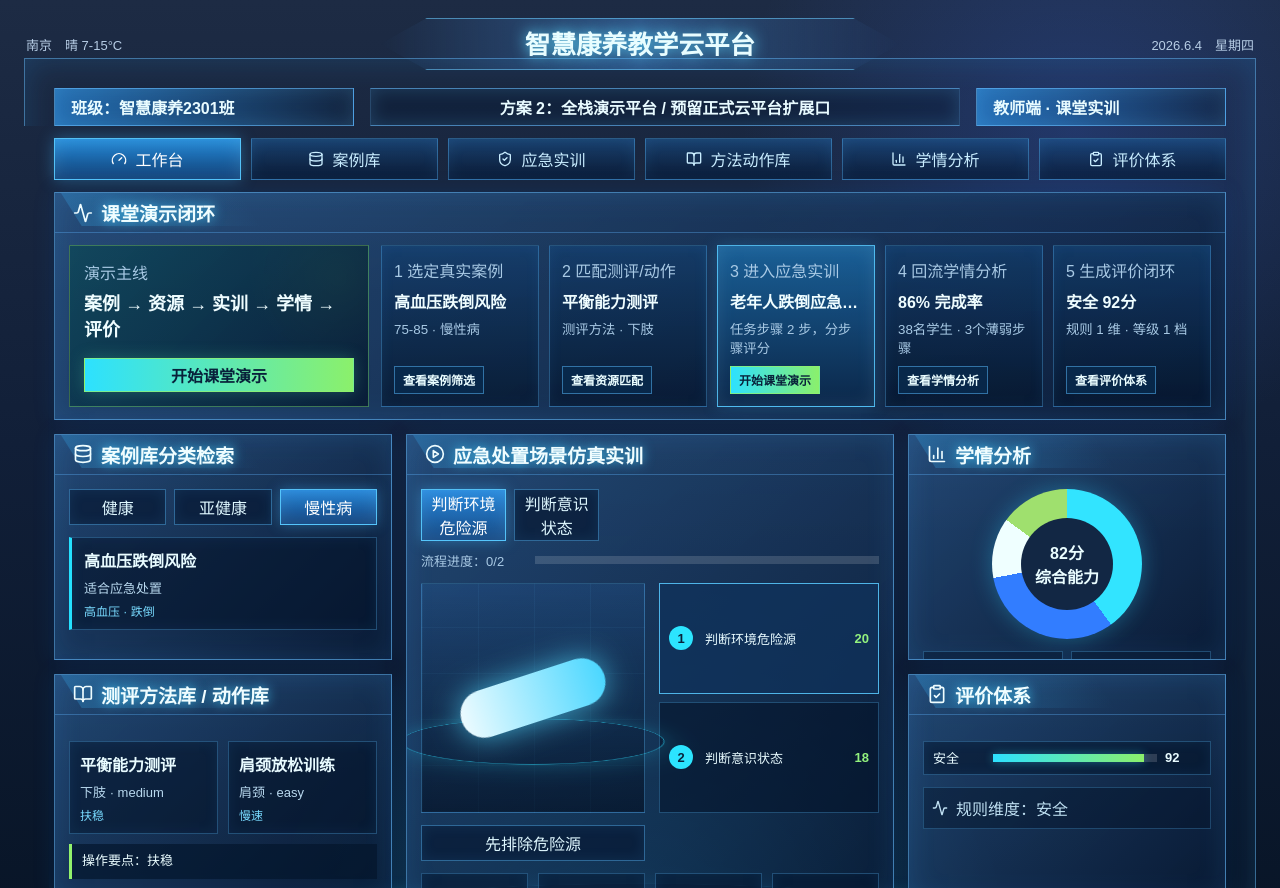
App › completes multiple fall-response steps and displays a total report
Click the button named "应急实训": {"x": 542, "y": 159} [448,138,635,180]
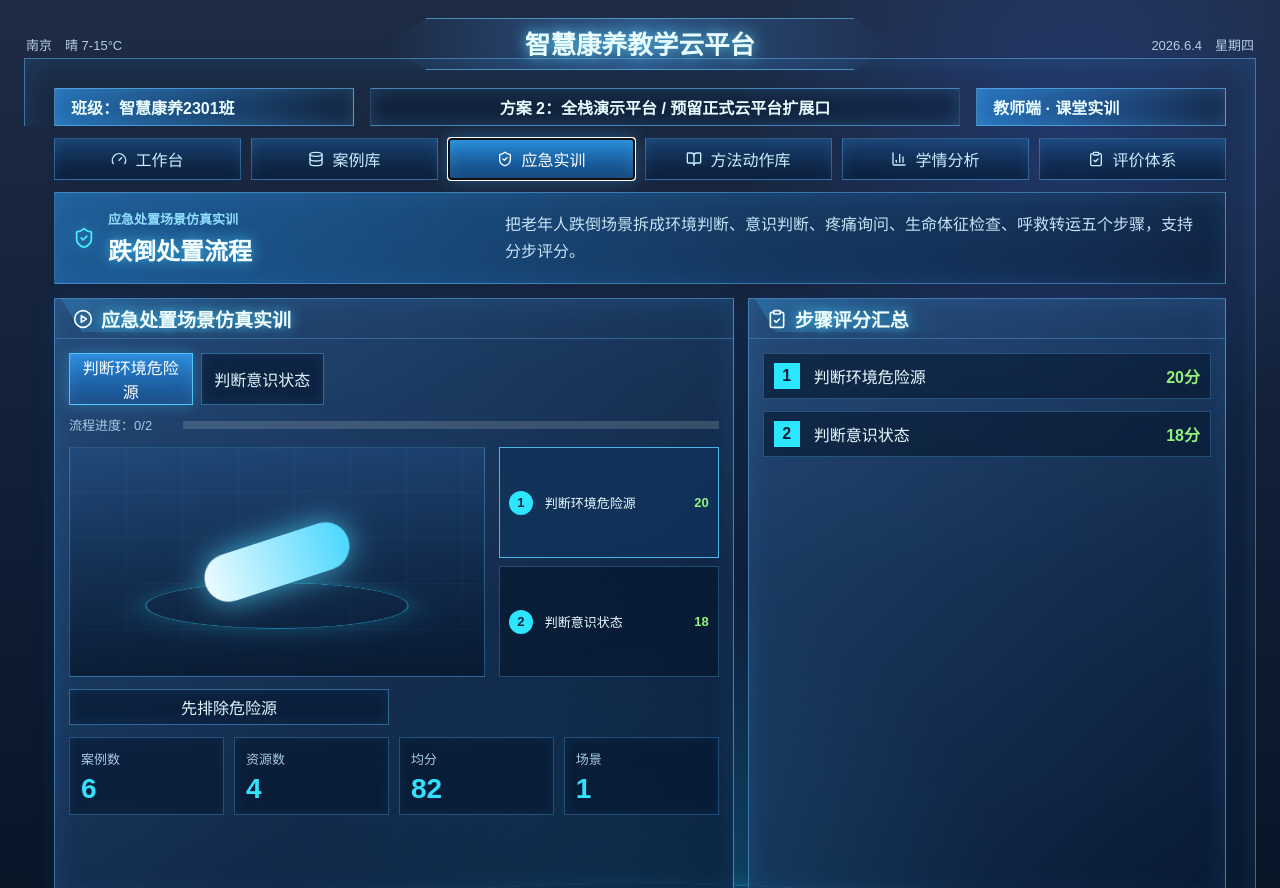
Click the button "先排除危险源": {"x": 229, "y": 707} [69,689,389,725]
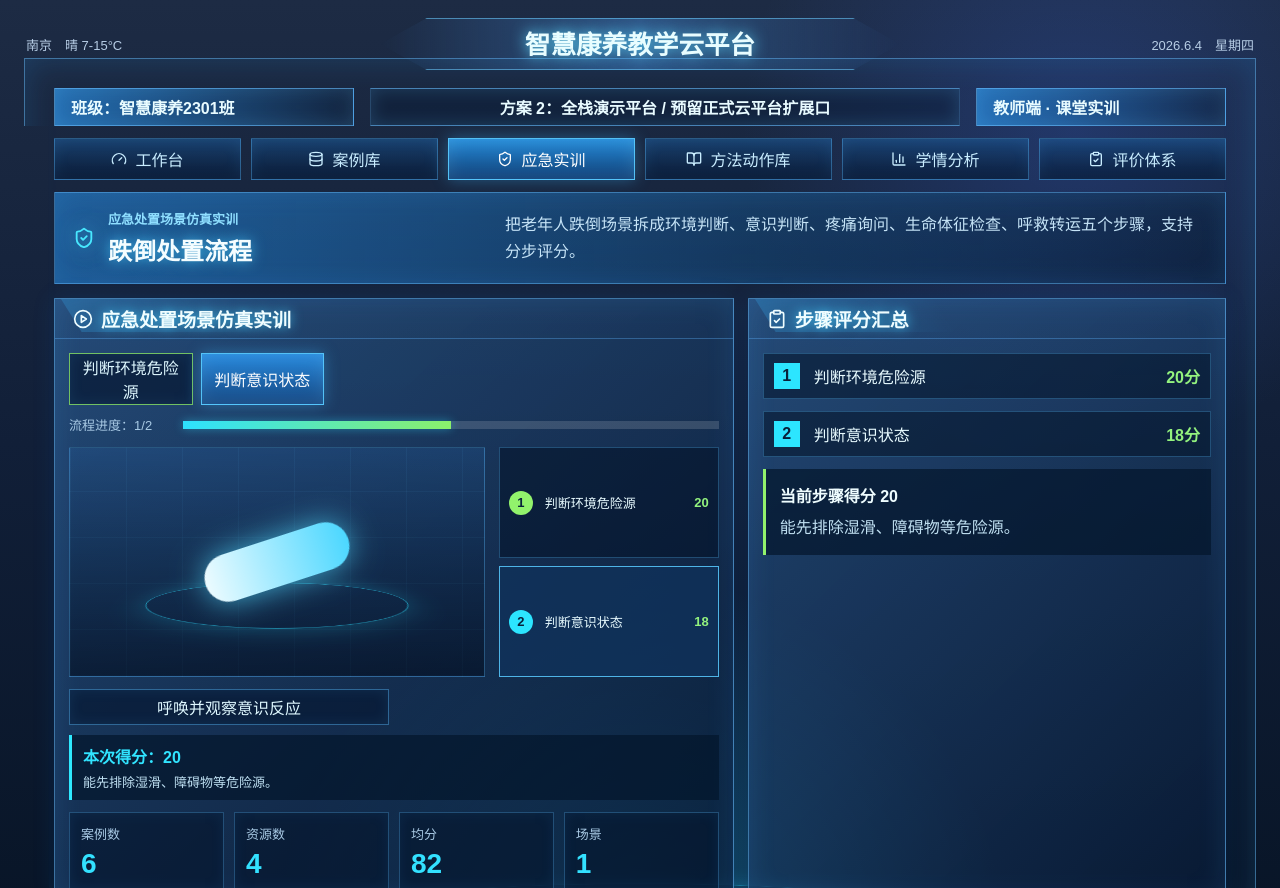
Click the button "呼唤并观察意识反应": {"x": 229, "y": 707} [69,689,389,725]
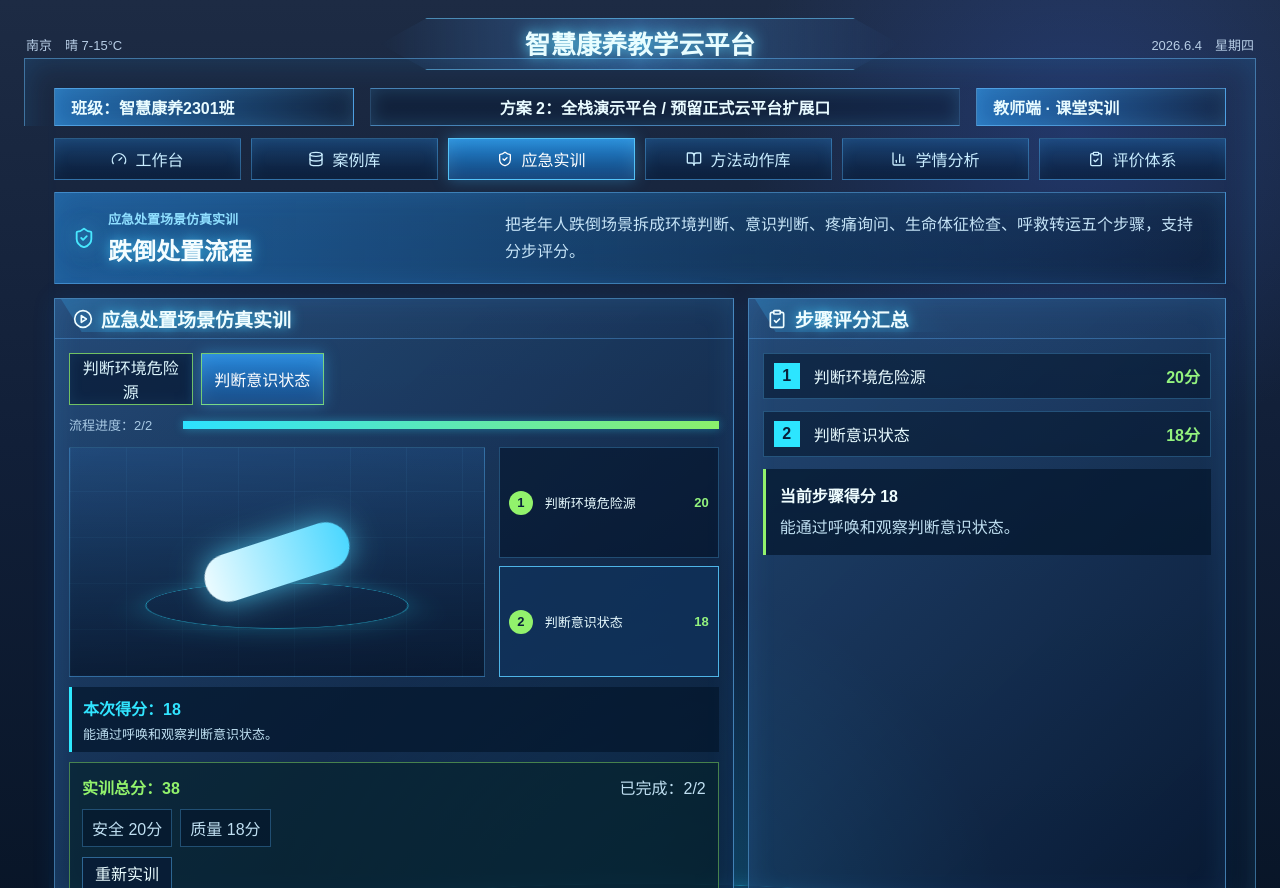
Result: the text "实训总分：38" is shown at [82,775,180,799]
Result: the text "已完成：2/2" is shown at [620,775,706,799]
Result: the text "安全 20分" is shown at [82,809,172,847]
